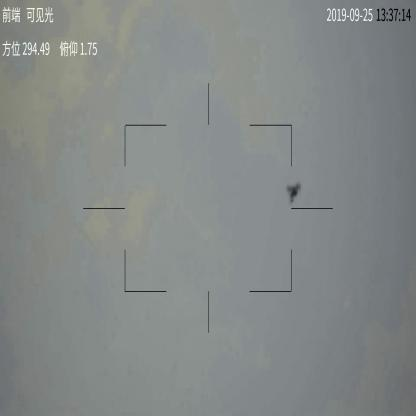uav: (285, 180, 304, 206)
